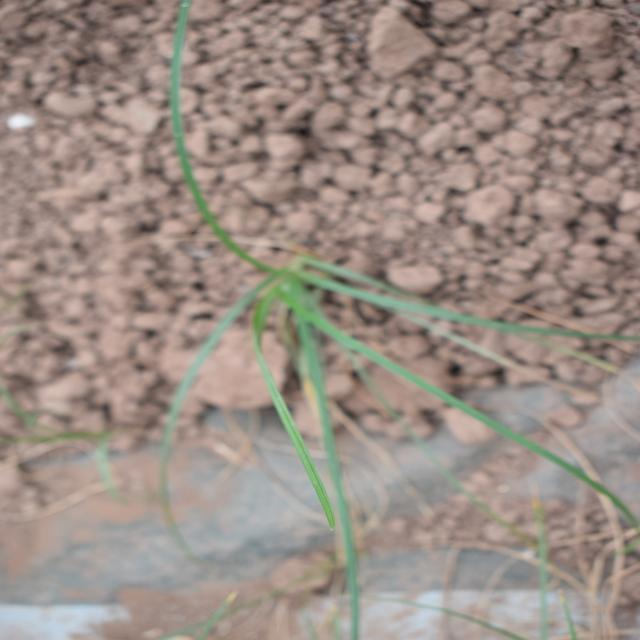sedge: (48, 132, 549, 548)
